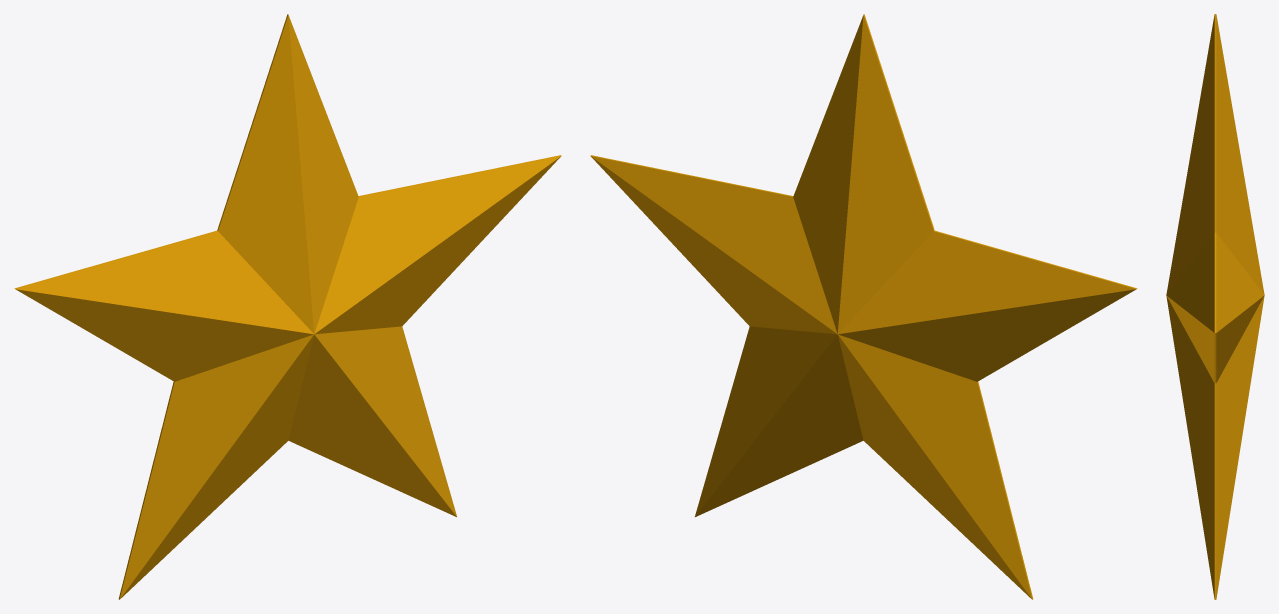
File: Prefab_Xmas_Tree_Topper_C.glb
3 views of the same model, side by side, from view 1: azimuth 30°, elevation 25°; view 2: azimuth 150°, elevation 25°; view 3: azimuth 270°, elevation 25° (orthographic). The views are drawn at different scales.
Parts seen in each view (by area): view 1: TreeTopper_Star_A; view 2: TreeTopper_Star_A; view 3: TreeTopper_Star_A.
Part boxes in pixels (left/top/right/bottom): TreeTopper_Star_A: left=14, top=14, right=561, bottom=599; TreeTopper_Star_A: left=590, top=14, right=1137, bottom=599; TreeTopper_Star_A: left=1166, top=14, right=1264, bottom=599.
Size of the model in its own units: 0.4271 by 0.4062 by 0.0711.
